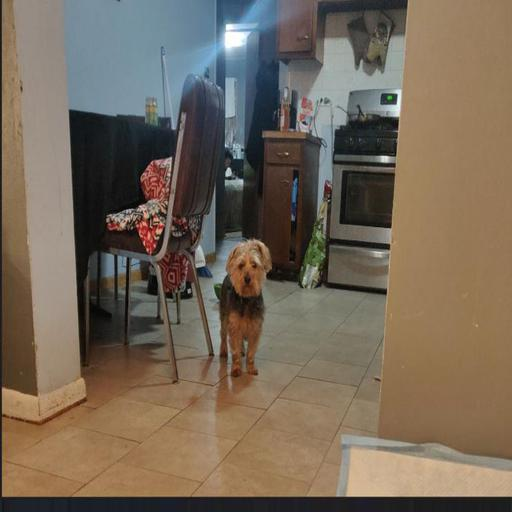dog: (189, 240, 302, 353)
